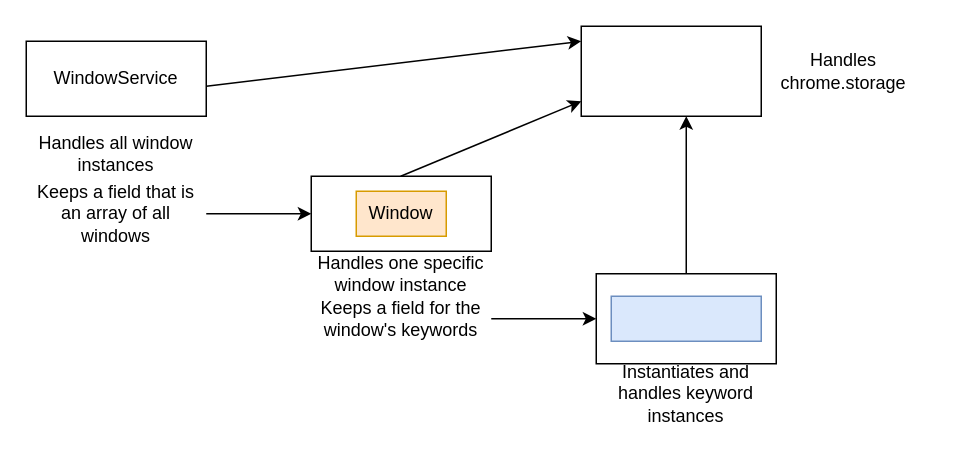
This 953x452 diagram has some shape labels left out. The shapes that lost their labels are listed below. From the top down, each one's centre as x and y in pixels, then its label:
At (670,70): "StorageService".
At (685,318): "KeywordService (Keywords)".
